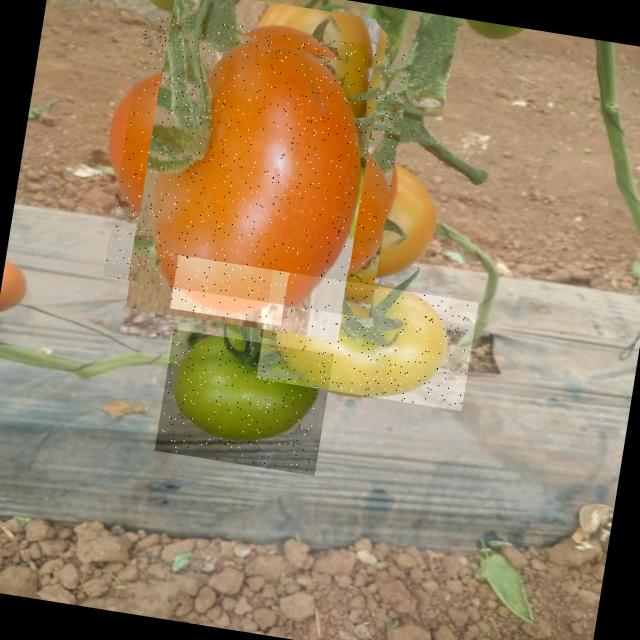Ripe Tomato: (103, 10, 413, 319)
Unripe Tomato: (256, 270, 479, 411), (154, 329, 333, 476), (170, 255, 289, 326)
